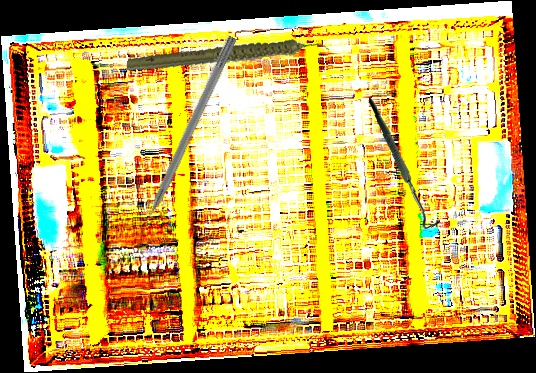Handpiece: (125, 15, 331, 100)
Hook Surgical: (362, 97, 447, 230)
Pusher: (132, 34, 238, 241)
